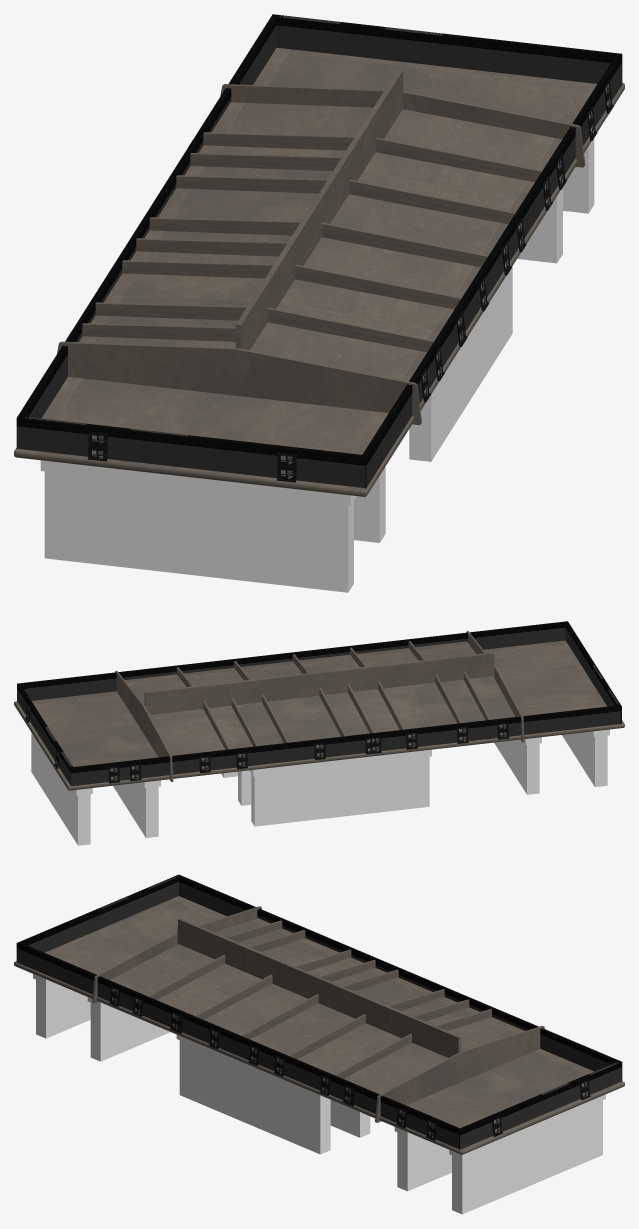
The model's file is verdurone banco.fbx.
3 renders of one model, top to bottom at view 1: azimuth 30°, elevation 25°; view 2: azimuth 150°, elevation 25°; view 3: azimuth 270°, elevation 25°, orthographic. The views are drawn at different scales.
Visible parts, largest first — view 1: base_2, base, Boole, paratie, Extrude; view 2: base_2, base, Boole, paratie, Extrude; view 3: base_2, base, Boole, paratie, Extrude.
Boxes of the visible parts, x1,y1,x2,y2 form: base_2: (14,47,624,496); base: (40,138,594,592); Boole: (16,14,622,488); paratie: (82,132,542,352); Extrude: (57,84,585,425); base_2: (14,640,624,790); base: (31,729,609,845); Boole: (17,621,621,786); paratie: (176,641,490,749); Extrude: (115,631,524,781); base_2: (14,896,624,1154); base: (33,974,605,1214); Boole: (16,874,622,1149); paratie: (147,920,491,1078); Extrude: (92,906,544,1122).
Bounding box in the file's own units: 601 × 127 × 601.
